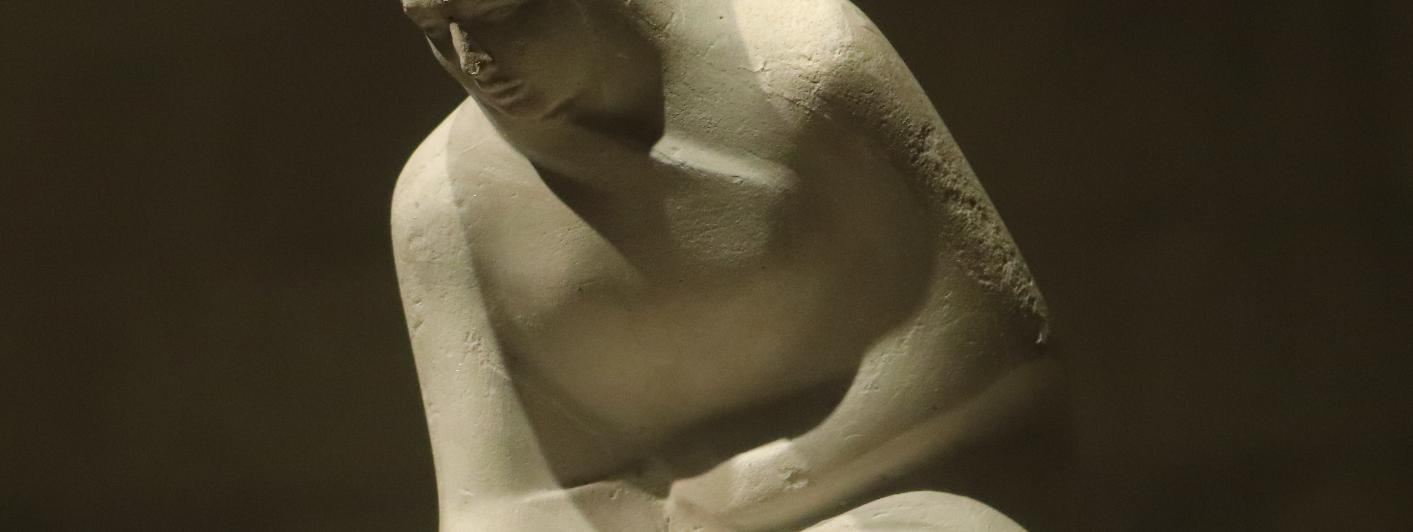the_female_peasent: (335, 0, 1103, 532)
